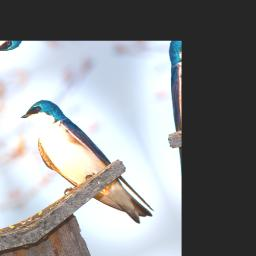Swallow: (17, 73, 157, 253)
